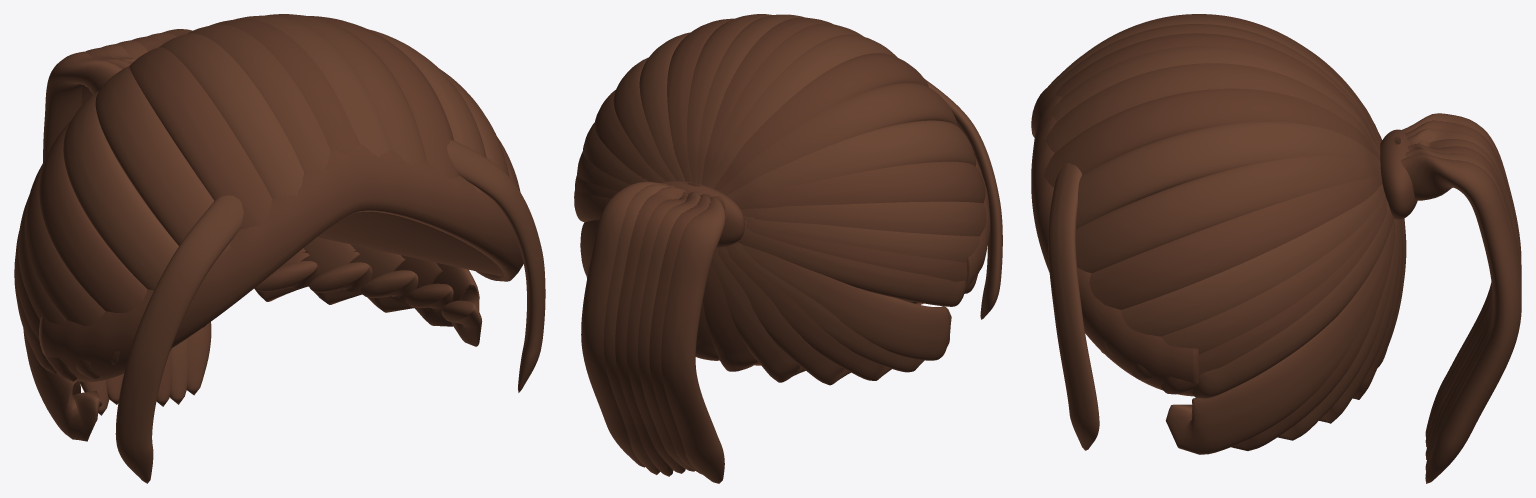
Rendered from hair-ponytail-sculpted.glb.
The picture shows the model from 3 angles, left to right: view 1: azimuth 30°, elevation 25°; view 2: azimuth 150°, elevation 25°; view 3: azimuth 270°, elevation 25°; orthographic projection. The views are drawn at different scales.
Parts seen in each view (by area): view 1: Hair / Pony continuous front edge, Hair / Pony front -1, Hair / Pony swept 7, Hair / Pony swept 5, Hair / Pony swept 6, Hair / Pony swept 8, Hair / Pony swept 4, Hair / Pony front 1, Hair / Pony swept 9, Recessed roots, Hair / Pony swept 12, Hair / Pony swept 11 (+19 smaller); view 2: Hair / Pony tail 0, Hair / Pony nape 12, Hair / Pony swept 5, Hair / Pony swept 6, Hair / Pony swept 4, Hair / Pony swept 7, Hair / Pony tail 6, Hair / Pony swept 3, Hair / Pony swept 0, Hair / Pony swept 8, Hair / Pony swept 2, Hair / Pony tail 4 (+27 smaller); view 3: Hair / Pony swept 15, Hair / Pony swept 14, Hair / Pony swept 16, Hair / Pony tail 6, Hair / Pony nape 0, Hair / Pony swept 13, Hair / Pony swept 17, Hair / Pony continuous front edge, Hair / Pony swept 12, Hair / Pony front 1, Hair / Pony swept 18, Hair / Pony swept 20 (+17 smaller).
Part boxes in pixels (x1=…): Hair / Pony continuous front edge: x1=39, y1=144, x2=523, y2=381; Hair / Pony front -1: x1=115, y1=195, x2=243, y2=483; Hair / Pony swept 7: x1=129, y1=47, x2=272, y2=228; Hair / Pony swept 5: x1=63, y1=90, x2=205, y2=327; Hair / Pony swept 6: x1=95, y1=66, x2=231, y2=258; Hair / Pony swept 8: x1=159, y1=33, x2=303, y2=198; Hair / Pony swept 4: x1=39, y1=121, x2=171, y2=350; Hair / Pony front 1: x1=447, y1=140, x2=545, y2=392; Hair / Pony swept 9: x1=187, y1=24, x2=330, y2=172; Recessed roots: x1=317, y1=211, x2=503, y2=276; Hair / Pony swept 12: x1=265, y1=14, x2=426, y2=167; Hair / Pony swept 11: x1=234, y1=15, x2=392, y2=158; Hair / Pony tail 0: x1=661, y1=196, x2=725, y2=483; Hair / Pony nape 12: x1=742, y1=246, x2=951, y2=360; Hair / Pony swept 5: x1=727, y1=120, x2=976, y2=201; Hair / Pony swept 6: x1=719, y1=82, x2=957, y2=195; Hair / Pony swept 4: x1=735, y1=161, x2=985, y2=209; Hair / Pony swept 7: x1=713, y1=53, x2=928, y2=191; Hair / Pony tail 6: x1=581, y1=181, x2=667, y2=467; Hair / Pony swept 3: x1=741, y1=201, x2=986, y2=236; Hair / Pony swept 0: x1=737, y1=220, x2=965, y2=306; Hair / Pony swept 8: x1=709, y1=34, x2=897, y2=188; Hair / Pony swept 2: x1=743, y1=216, x2=985, y2=269; Hair / Pony tail 4: x1=615, y1=187, x2=686, y2=476; Hair / Pony swept 15: x1=1075, y1=156, x2=1381, y2=273; Hair / Pony swept 14: x1=1049, y1=122, x2=1380, y2=228; Hair / Pony swept 16: x1=1089, y1=175, x2=1382, y2=309; Hair / Pony tail 6: x1=1401, y1=154, x2=1521, y2=483; Hair / Pony nape 0: x1=1165, y1=225, x2=1392, y2=454; Hair / Pony swept 13: x1=1044, y1=88, x2=1380, y2=187; Hair / Pony swept 17: x1=1101, y1=184, x2=1384, y2=355; Hair / Pony continuous front edge: x1=1031, y1=83, x2=1198, y2=396; Hair / Pony swept 12: x1=1045, y1=63, x2=1380, y2=156; Hair / Pony front 1: x1=1048, y1=163, x2=1099, y2=450; Hair / Pony swept 18: x1=1132, y1=192, x2=1385, y2=380; Hair / Pony swept 20: x1=1192, y1=200, x2=1393, y2=398.
Size of the model in its own units: 1.05 by 1.01 by 1.05.
